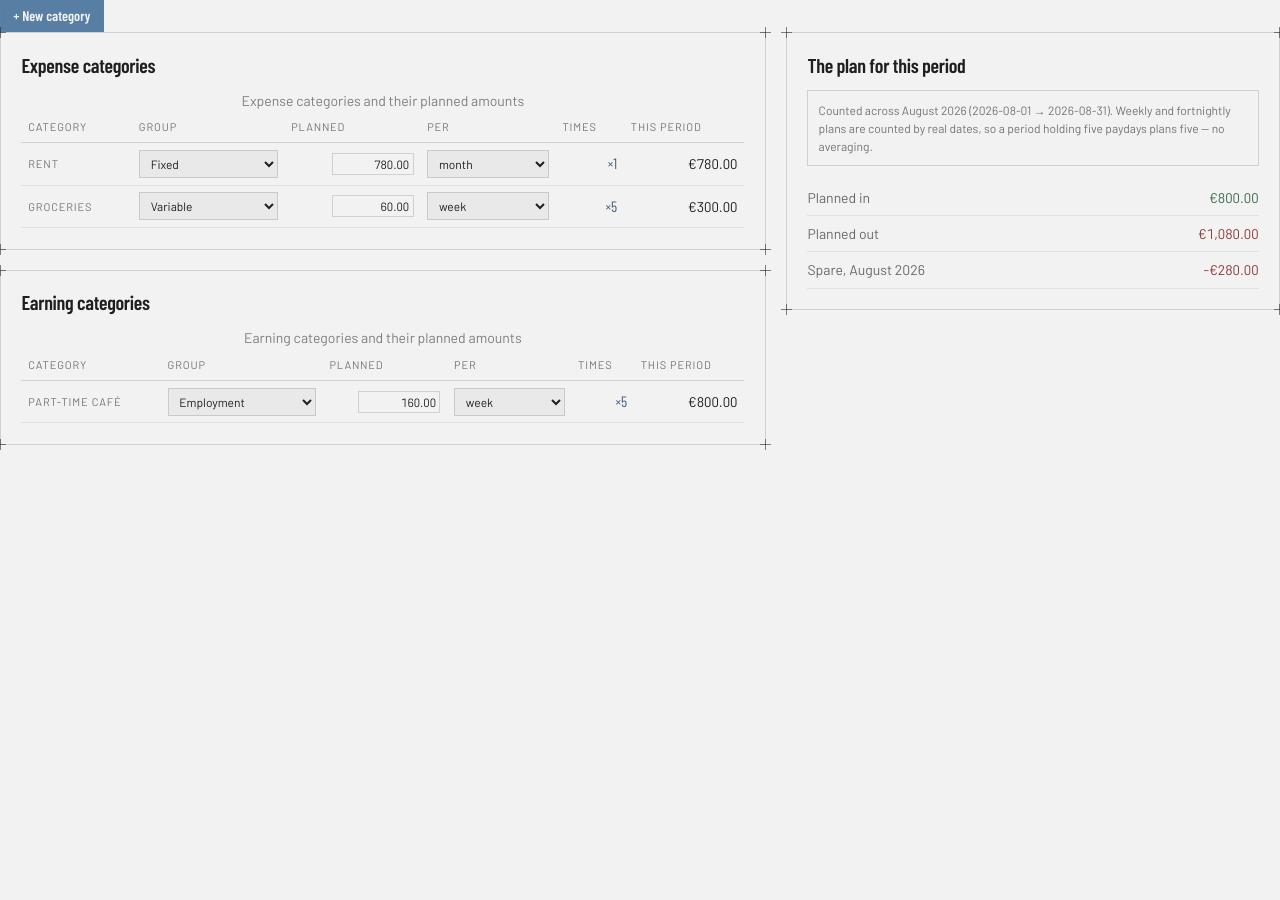
it: CategoriesPage - creating a category (BR-14) › refuses a category with no planned amount, which BR-14 does not allow
This screenshot has width=1280, height=900.
Click the button "+ New category" at (52, 16), box left=0, top=0, right=104, bottom=32
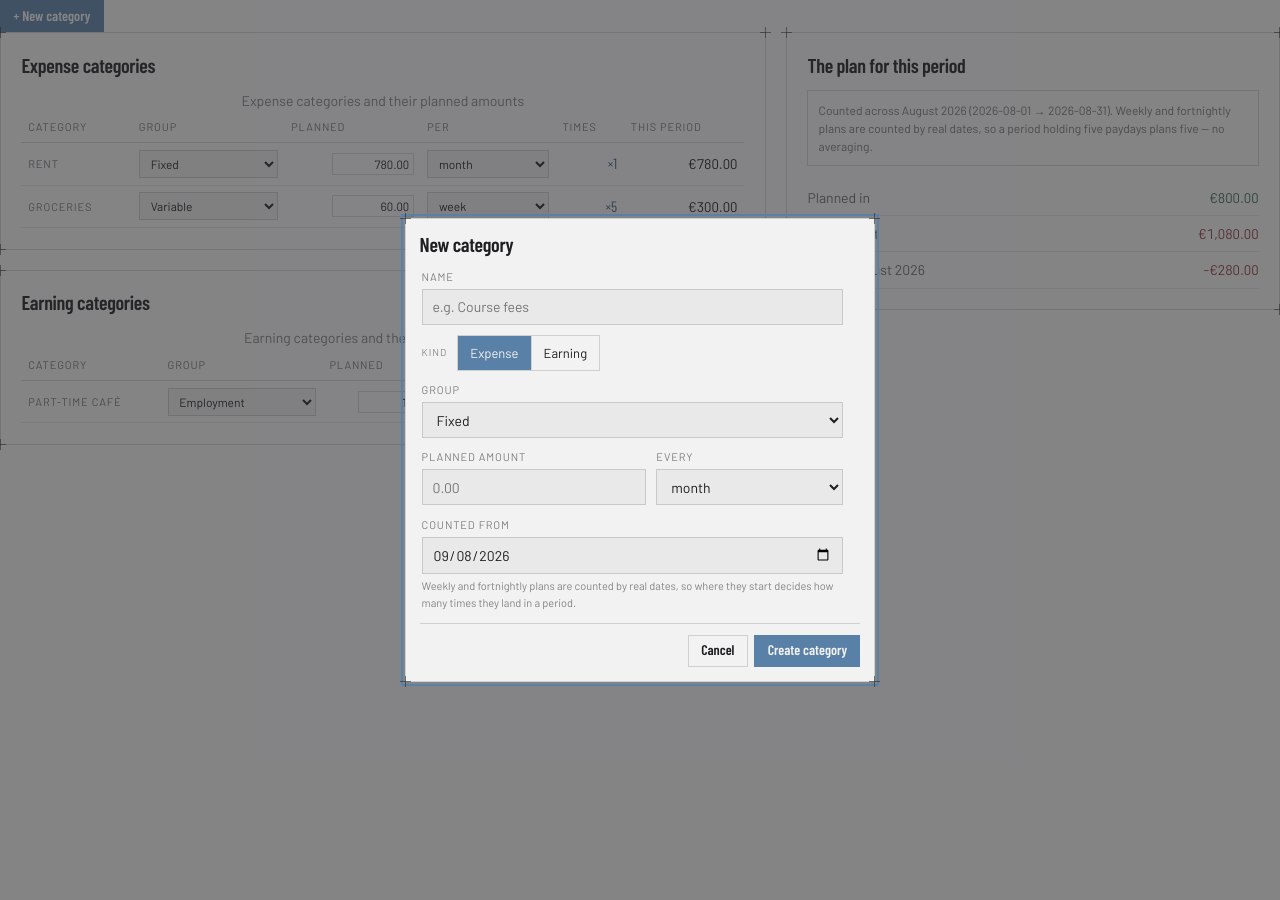
Type "Course fees" into the field labelled "Name" at (632, 307), box left=422, top=289, right=843, bottom=325
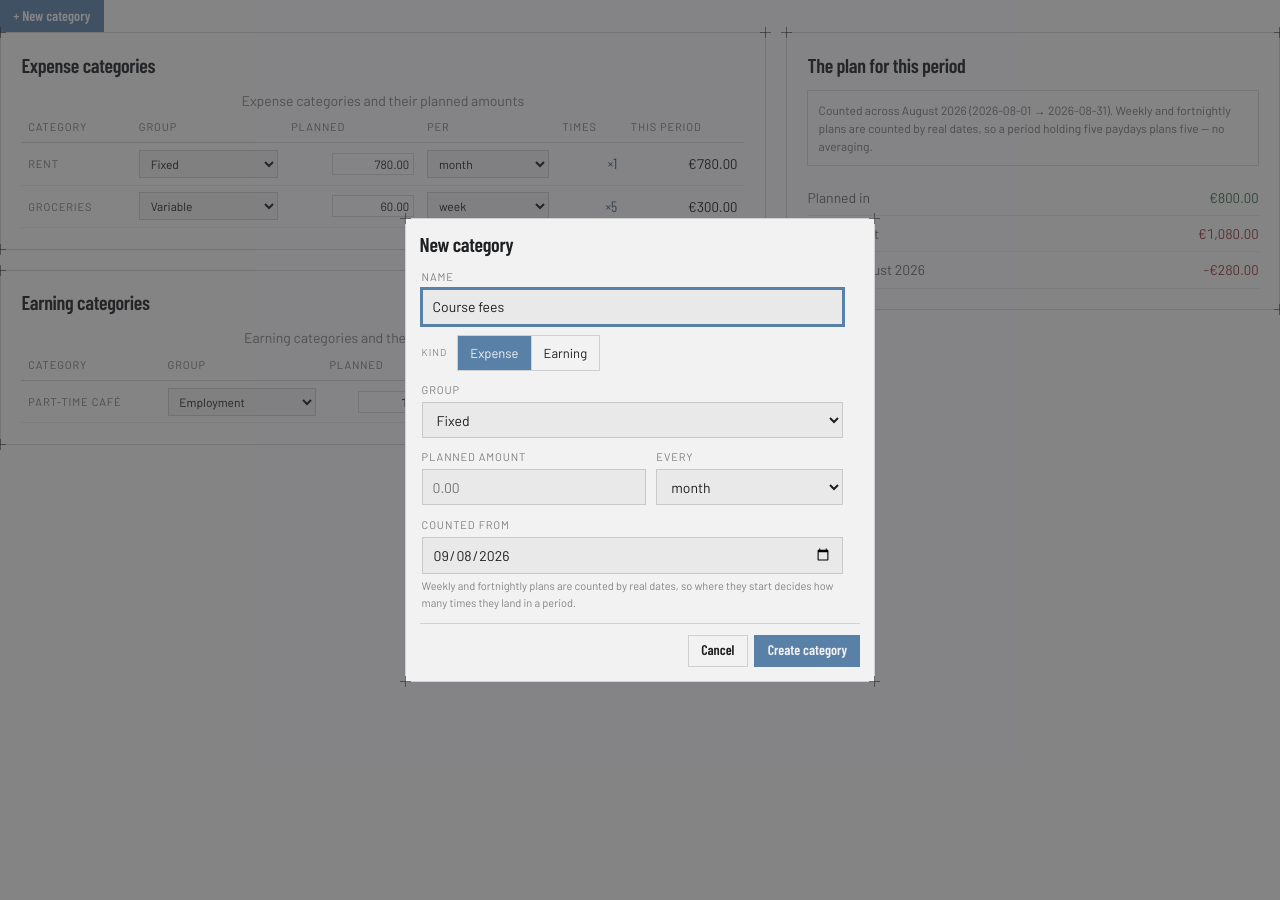
Click the button "Create category" at (807, 651), box left=754, top=635, right=860, bottom=667
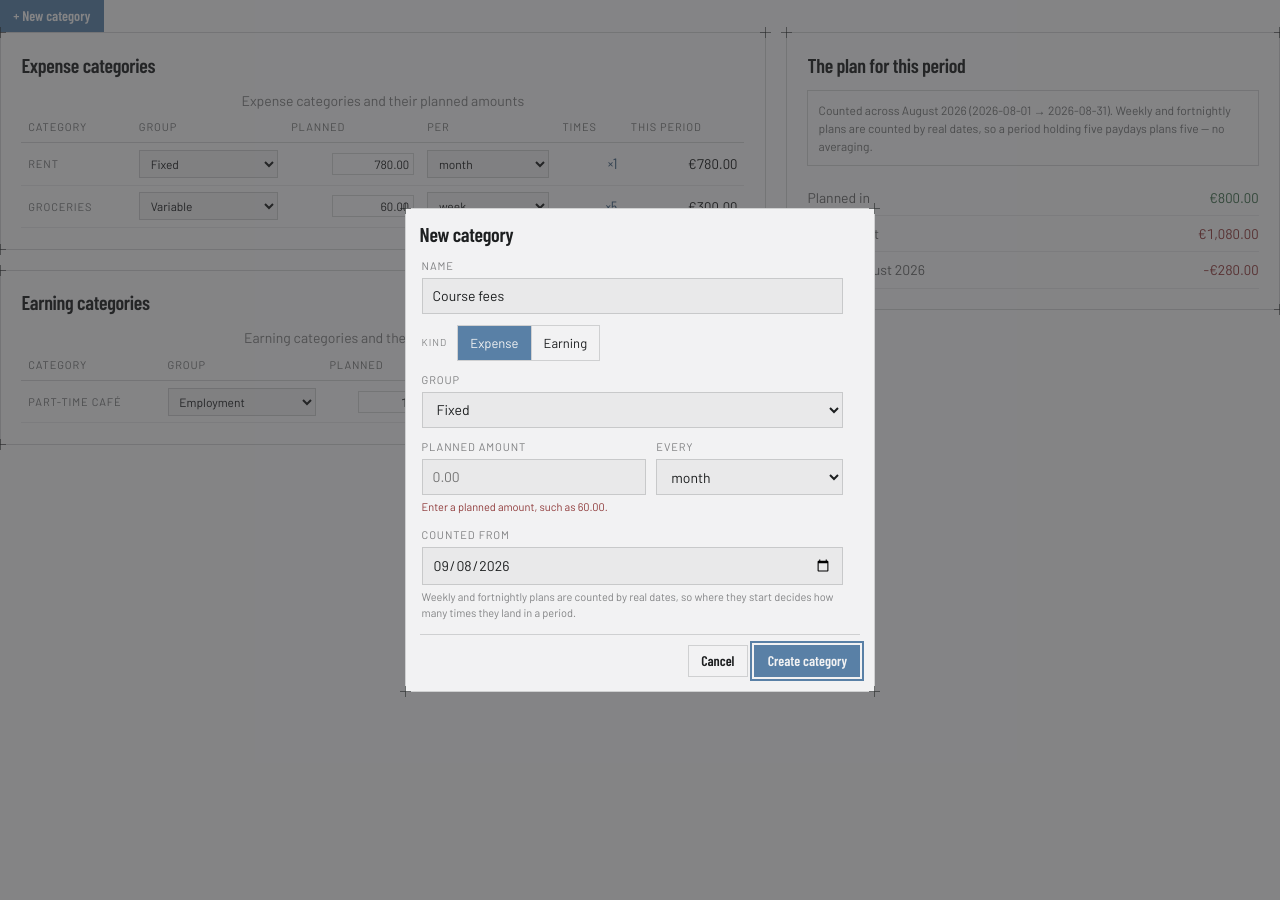
Now the message shows "Enter a planned amount", box left=422, top=500, right=608, bottom=513
